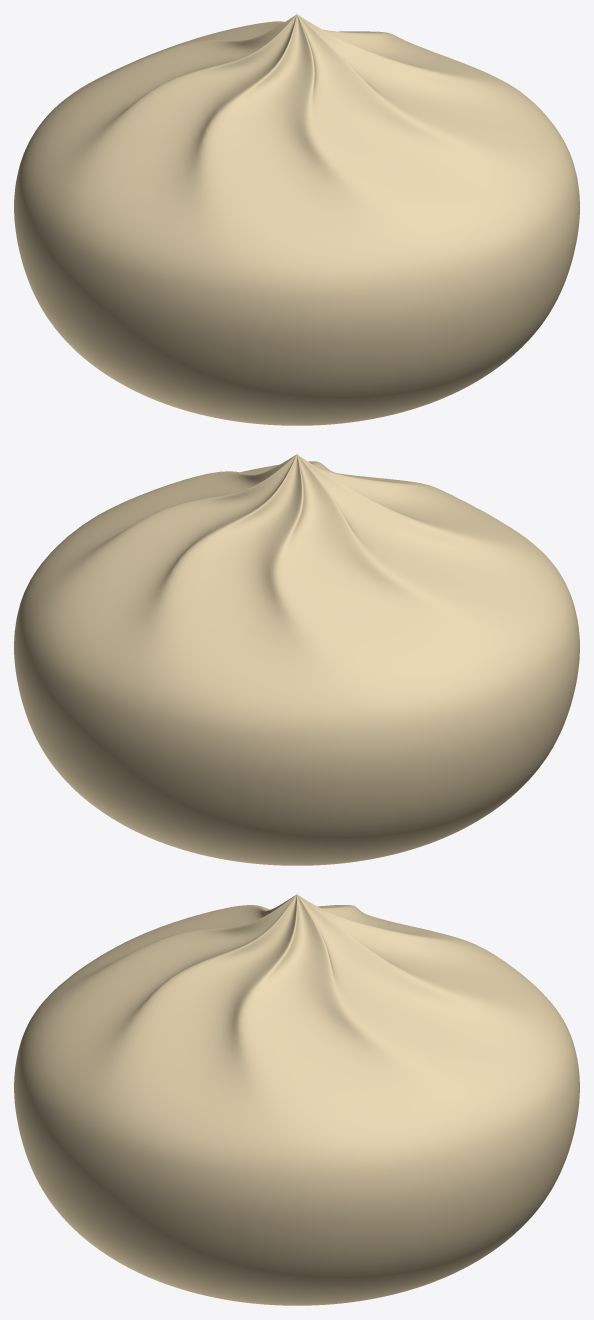
The model's file is nikuman (3).fbx.
3 views of the same model, one above another, from view 1: azimuth 30°, elevation 25°; view 2: azimuth 150°, elevation 25°; view 3: azimuth 270°, elevation 25° (orthographic).
Visible parts, largest first — view 1: 円; view 2: 円; view 3: 円.
Boxes of the visible parts, x1,y1,x2,y2 form: 円: (14, 14, 579, 425); 円: (14, 454, 579, 865); 円: (14, 894, 579, 1305).
Size of the model in its own units: 618 by 427 by 618.
